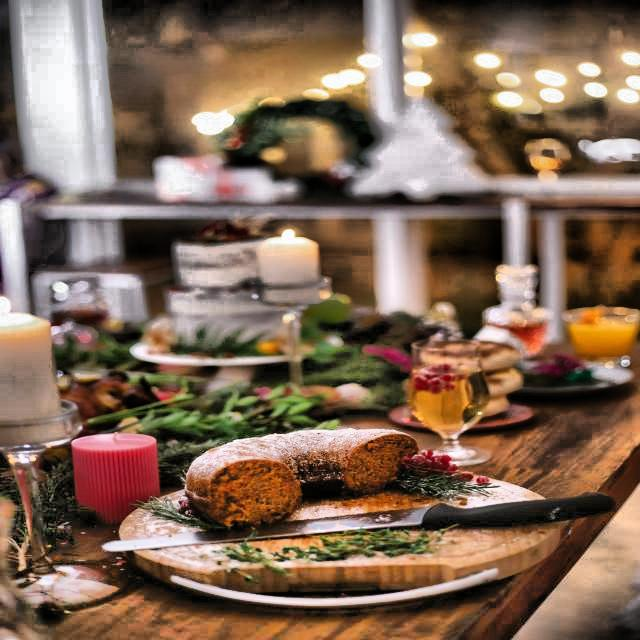knife: (100, 492, 600, 558)
